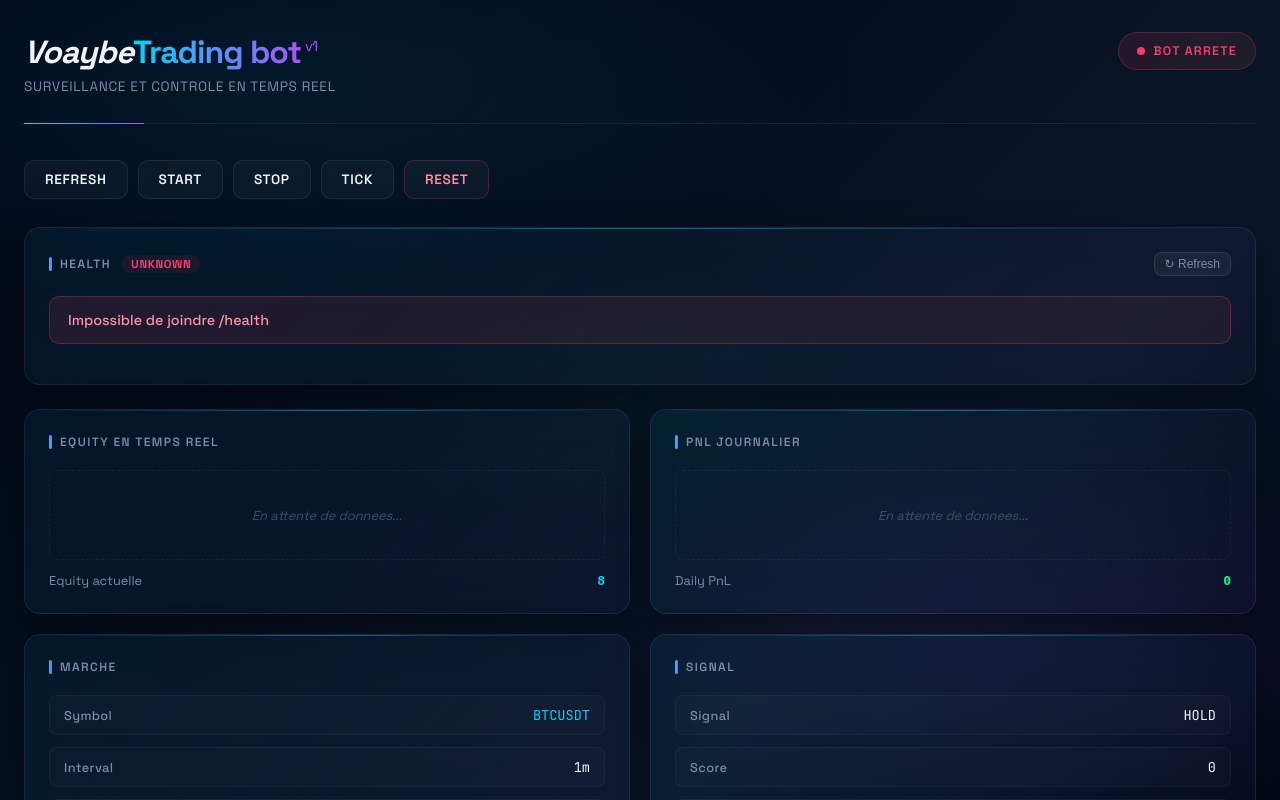
Test case: Modal de confirmation Reset › affiche la modal au clic sur Reset
The image size is (1280, 800).
Click the button "Reset": (447, 180) [404, 160, 489, 199]
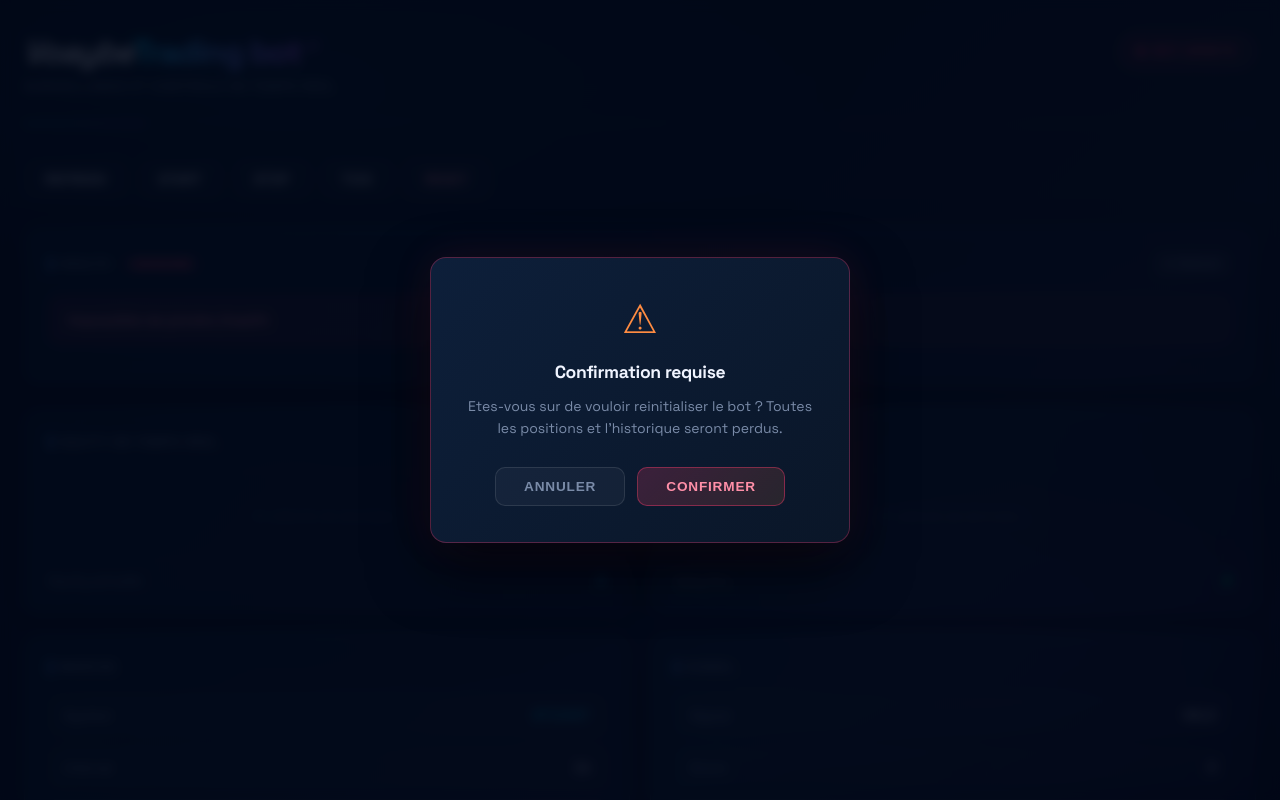
Expected: the heading "Confirmation requise" is shown, [555, 361, 725, 383]
